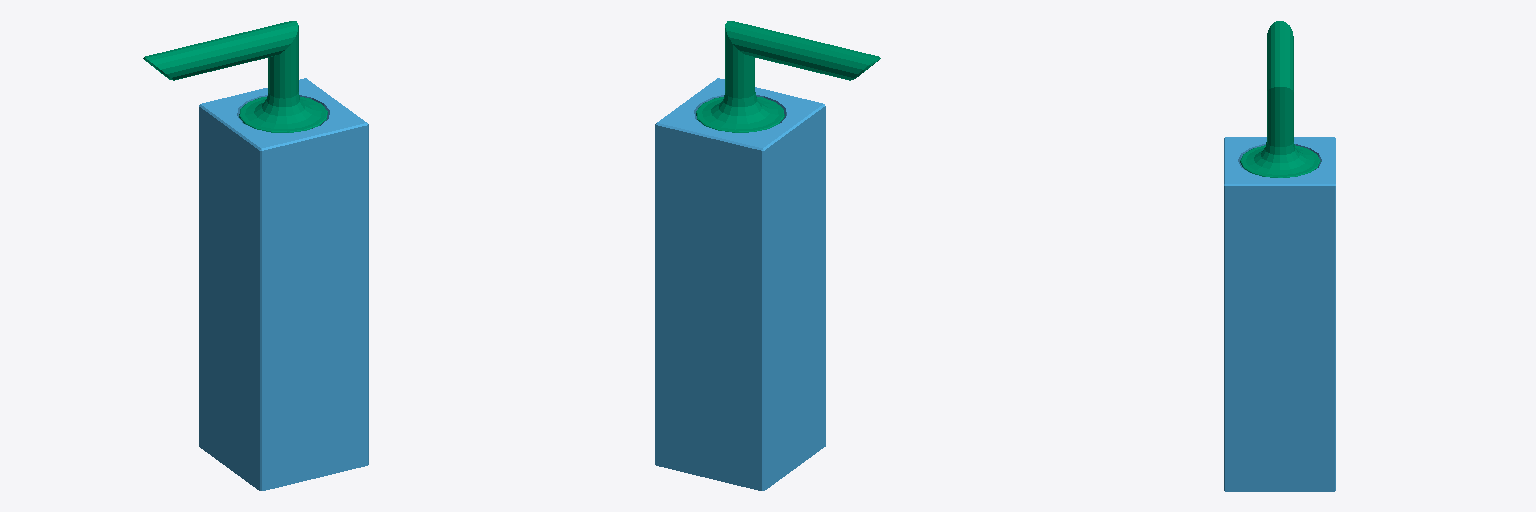
URDF robot description (partnet_76221d93ba6f391876c18e71fd49c4dc):
<?xml version="1.0" ?>
<robot name="partnet_76221d93ba6f391876c18e71fd49c4dc">
	<link name="base"/>
	<link name="link_0">
		<visual name="base_body-4">
			<origin xyz="0 0 0"/>
			<geometry>
				<mesh filename="textured_objs/original-1.obj"/>
			</geometry>
		</visual>
		<collision>
			<origin xyz="0 0 0"/>
			<geometry>
				<mesh filename="textured_objs/original-1.obj"/>
			</geometry>
		</collision>
	</link>
	<joint name="joint_0" type="fixed">
		<origin rpy="1.570796326794897 0 -1.570796326794897" xyz="0 0 0"/>
		<child link="link_0"/>
		<parent link="base"/>
	</joint>
	<link name="link_1">
		<visual name="pressing_lid-2">
			<origin xyz="-0.0003029999999999977 0 0.014980500000000008"/>
			<geometry>
				<mesh filename="textured_objs/original-3.obj"/>
			</geometry>
		</visual>
		<visual name="outlier-3">
			<origin xyz="-0.0003029999999999977 0 0.014980500000000008"/>
			<geometry>
				<mesh filename="textured_objs/original-4.obj"/>
			</geometry>
		</visual>
		<collision>
			<origin xyz="-0.0003029999999999977 0 0.014980500000000008"/>
			<geometry>
				<mesh filename="textured_objs/original-3.obj"/>
			</geometry>
		</collision>
		<collision>
			<origin xyz="-0.0003029999999999977 0 0.014980500000000008"/>
			<geometry>
				<mesh filename="textured_objs/original-4.obj"/>
			</geometry>
		</collision>
	</link>
	<joint name="joint_1" type="continuous">
		<origin xyz="0.0 0 0.0"/>
		<axis xyz="0 1 0"/>
		<child link="link_1"/>
		<parent link="link_1_helper"/>
	</joint>
	<link name="link_1_helper"/>
	<joint name="joint_2" type="prismatic">
		<origin xyz="0.0003029999999999977 0 -0.014980500000000008"/>
		<axis xyz="0 -1 0"/>
		<child link="link_1_helper"/>
		<parent link="link_0"/>
		<limit lower="0" upper="0.04800000000000004"/>
	</joint>
</robot>

--- Facts derived from the render (not from the file) ---
3 views of the same robot in one strip: view 1: azimuth 30°, elevation 25°; view 2: azimuth 150°, elevation 25°; view 3: azimuth 270°, elevation 25° (orthographic).
Model partnet_76221d93ba6f391876c18e71fd49c4dc with 4 links and 3 joints (1 continuous, 1 prismatic, 1 fixed), rooted at base, posed all joints at 0.
Visible links, largest first — view 1: link_0, link_1; view 2: link_0, link_1; view 3: link_0, link_1.
Link boxes in pixels (x1,y1,x2,y2): link_0: (199, 78, 368, 490); link_1: (143, 21, 327, 132); link_0: (655, 78, 825, 490); link_1: (696, 21, 880, 132); link_0: (1224, 137, 1335, 491); link_1: (1240, 21, 1320, 177).
Size in the robot's own frame: 0.7728 by 0.4365 by 1.65 metres.
3 mesh visuals loaded from 3 distinct referenced files (3 OBJ).